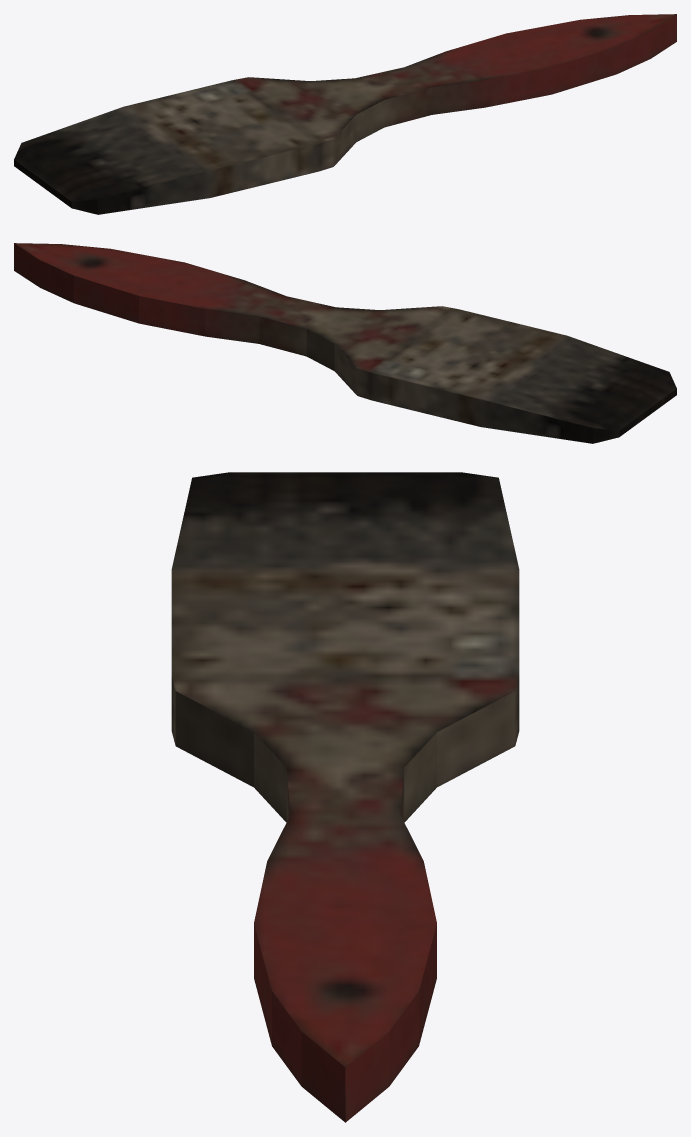
Rendered from paint_brush_mr_1.dae.
The picture shows the model from 3 angles, top to bottom: view 1: azimuth 30°, elevation 25°; view 2: azimuth 150°, elevation 25°; view 3: azimuth 270°, elevation 25°; orthographic projection. The views are drawn at different scales.
Visible parts, largest first — view 1: paint_brush_mr_1; view 2: paint_brush_mr_1; view 3: paint_brush_mr_1.
Part boxes in pixels (left/top/right/bottom): paint_brush_mr_1: left=14, top=14, right=676, bottom=214; paint_brush_mr_1: left=14, top=243, right=676, bottom=443; paint_brush_mr_1: left=171, top=472, right=519, bottom=1122.
Bounding box in the file's own units: 0.36 × 0.0855 × 0.015.
Materials: 1 (1 with a texture image).
